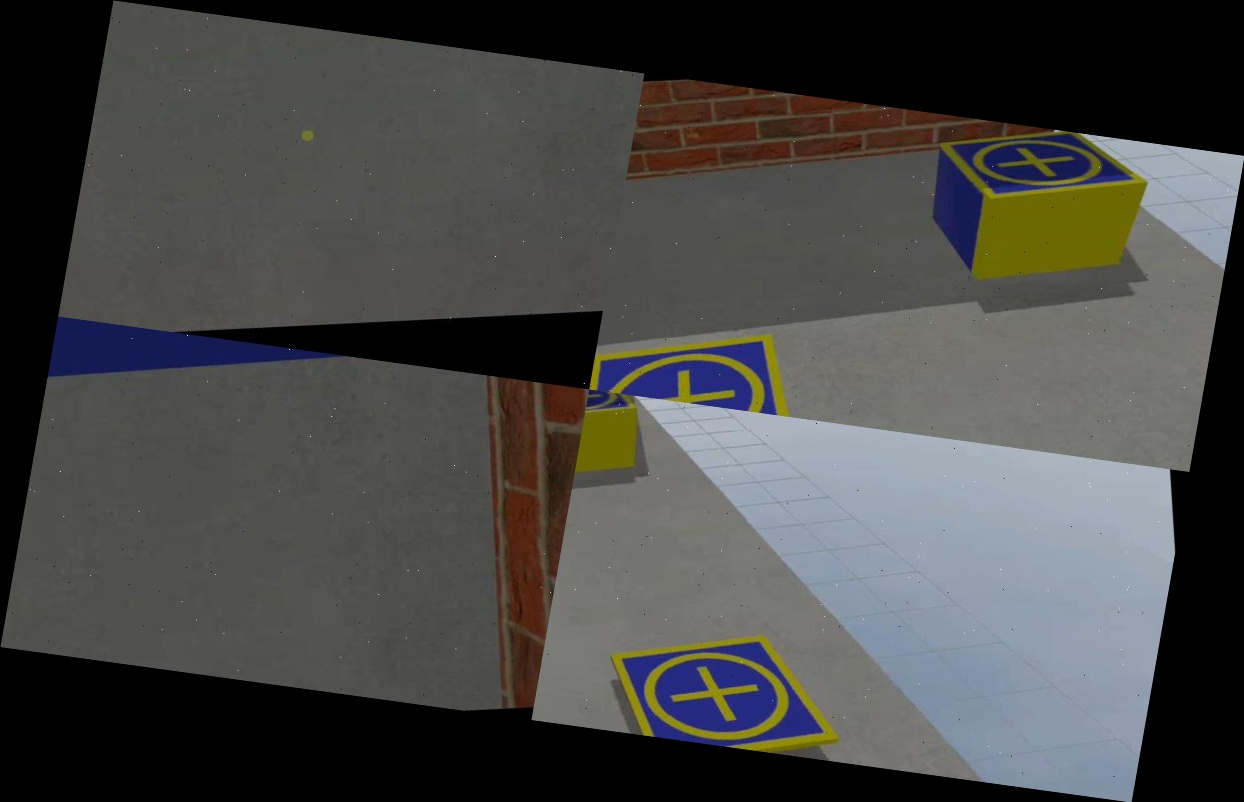large_base: (40, 316, 408, 466)
small_base: (595, 603, 861, 762), (589, 307, 822, 419), (929, 114, 1156, 228), (581, 389, 642, 441)
